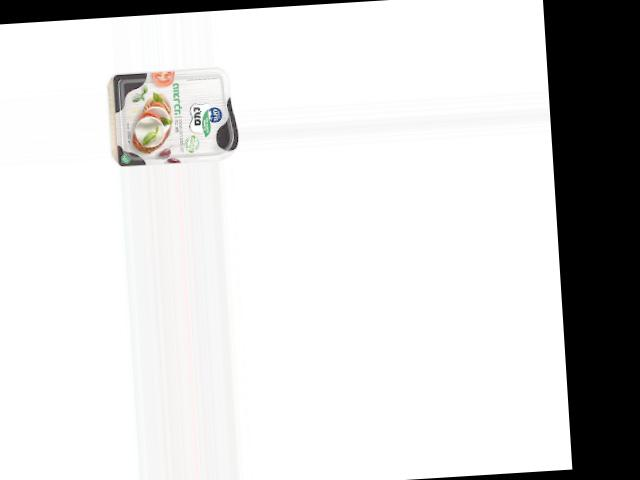cheese: (111, 65, 237, 166)
